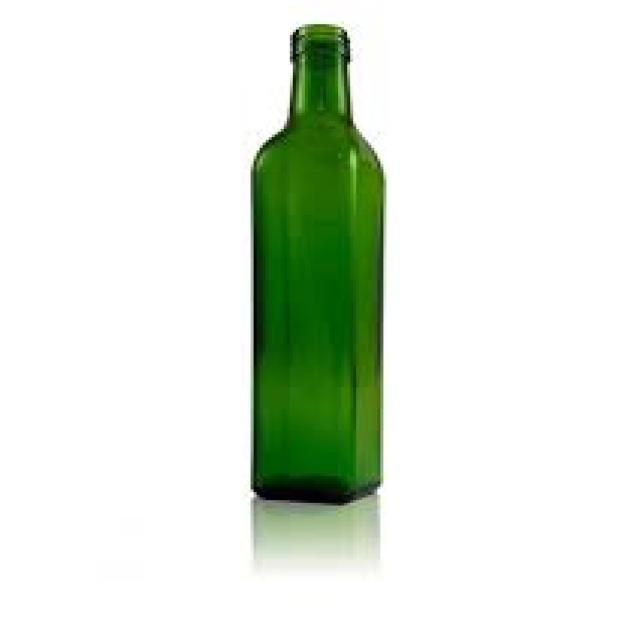glass: (248, 21, 381, 503)
